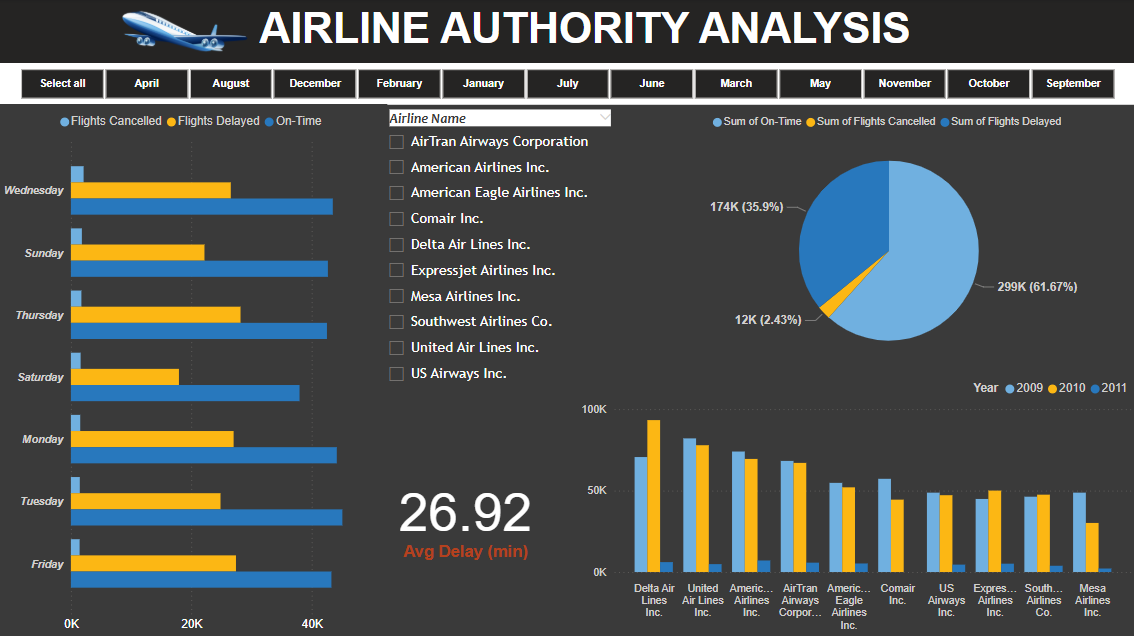

What the dashboard file says about the page in this screenshot:
{"tool":"powerbi","page":{"name":"Page 1","canvas":[1280,720],"ordinal":0},"visuals":[{"type":"textbox","box":[0,0,1280.5,71.8],"z":0},{"type":"slicer","fields":{"Values":["Sheet1.Month"]},"box":[0,71.9,1280,46.7],"z":1000},{"type":"clusteredBarChart","fields":{"Category":["Sheet1.Day of Week"],"Y":["Sum(Sheet1.Flights Cancelled)","Sum(Sheet1.Flights Delayed)","Sum(Sheet1.On-Time)"]},"box":[0,118.1,437.6,601.9],"z":2000},{"type":"slicer","fields":{"Values":["Sheet1.Airline Name"]},"box":[427.5,119.2,274.5,326.2],"z":3000},{"type":"pieChart","fields":{"Y":["Sum(Sheet1.On-Time)","Sum(Sheet1.Flights Cancelled)","Sum(Sheet1.Flights Delayed)"]},"box":[724.5,119,555.5,299.8],"z":4000},{"type":"clusteredColumnChart","fields":{"Category":["Sheet1.Airline Name"],"Y":["Sum(Sheet1.Avg Delay (min))"],"Series":["Sheet1.Year"]},"box":[650.2,418.5,630,301.5],"z":5000},{"type":"card","fields":{"Values":["Avg(Sheet1.Avg Delay (min))"]},"box":[427.5,445.5,196.9,274.5],"z":6000},{"type":"image","box":[131,4.6,157.2,63.8],"z":6001}]}

Visuals, with their boxes in screenshot pixels (x1, y1, x2, y2), scaled from the page's 1280x720 canvas onto the 1134x636 screenshot:
textbox: rect(0, 0, 1133, 63)
slicer - Sheet1.Month: rect(0, 64, 1133, 105)
clusteredBarChart - Sheet1.Day of Week x Sum(Sheet1.Flights Cancelled): rect(0, 104, 388, 635)
slicer - Sheet1.Airline Name: rect(379, 105, 622, 393)
pieChart - Sum(Sheet1.On-Time) x Sum(Sheet1.Flights Cancelled): rect(642, 105, 1133, 370)
clusteredColumnChart - Sheet1.Airline Name x Sum(Sheet1.Avg Delay (min)): rect(576, 370, 1133, 635)
card - Avg(Sheet1.Avg Delay (min)): rect(379, 394, 553, 635)
image: rect(116, 4, 255, 60)
